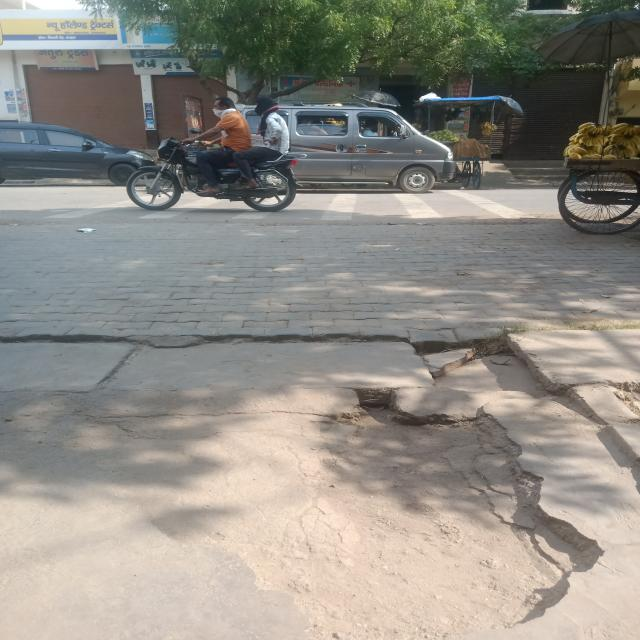Car: (307, 107, 462, 205)
